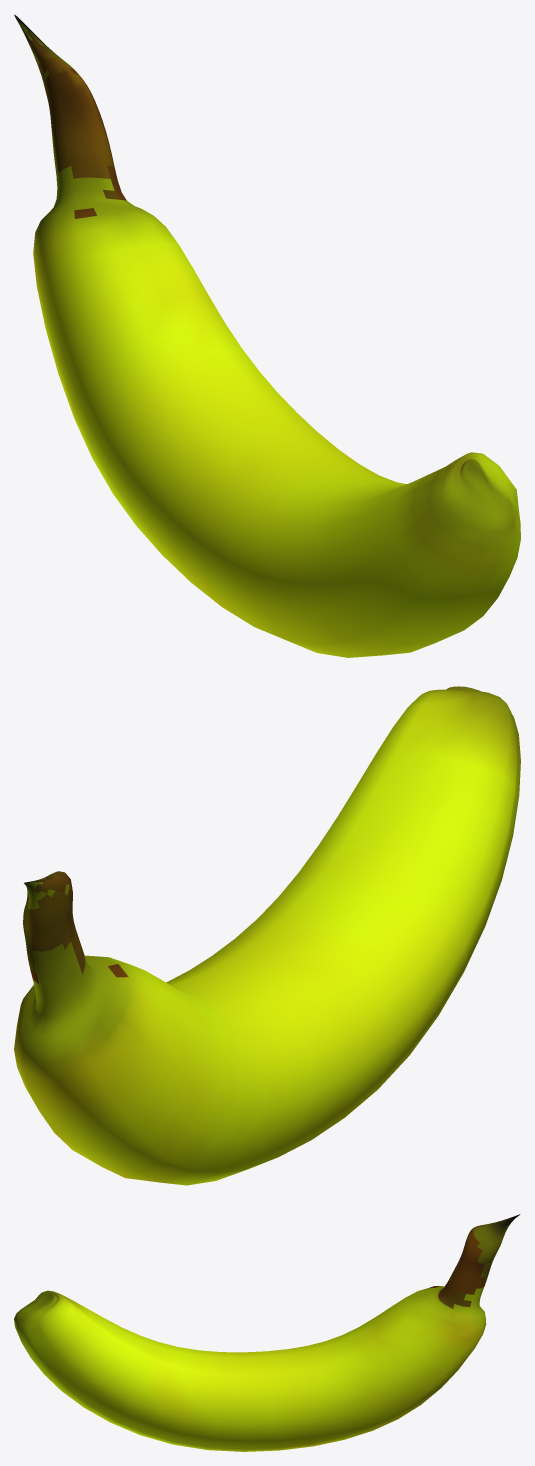
Rendered from BANANA.fbx.
The picture shows the model from 3 angles, top to bottom: view 1: azimuth 30°, elevation 25°; view 2: azimuth 150°, elevation 25°; view 3: azimuth 270°, elevation 25°; orthographic projection. The views are drawn at different scales.
Parts seen in each view (by area): view 1: Cube; view 2: Cube; view 3: Cube.
Boxes of the visible parts, box(x1,y1,x2,y2) form: Cube: box(14, 14, 520, 657); Cube: box(14, 686, 520, 1185); Cube: box(14, 1214, 520, 1451).
Bounding box in the file's own units: 155 × 368 × 745.
